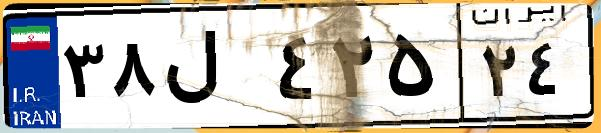2: (330, 28, 385, 110), (475, 38, 525, 113)
3: (57, 26, 110, 100)
4: (270, 28, 330, 110), (525, 38, 570, 115)
5: (385, 28, 445, 110)
8: (110, 28, 158, 98)
ل: (158, 20, 270, 120)
